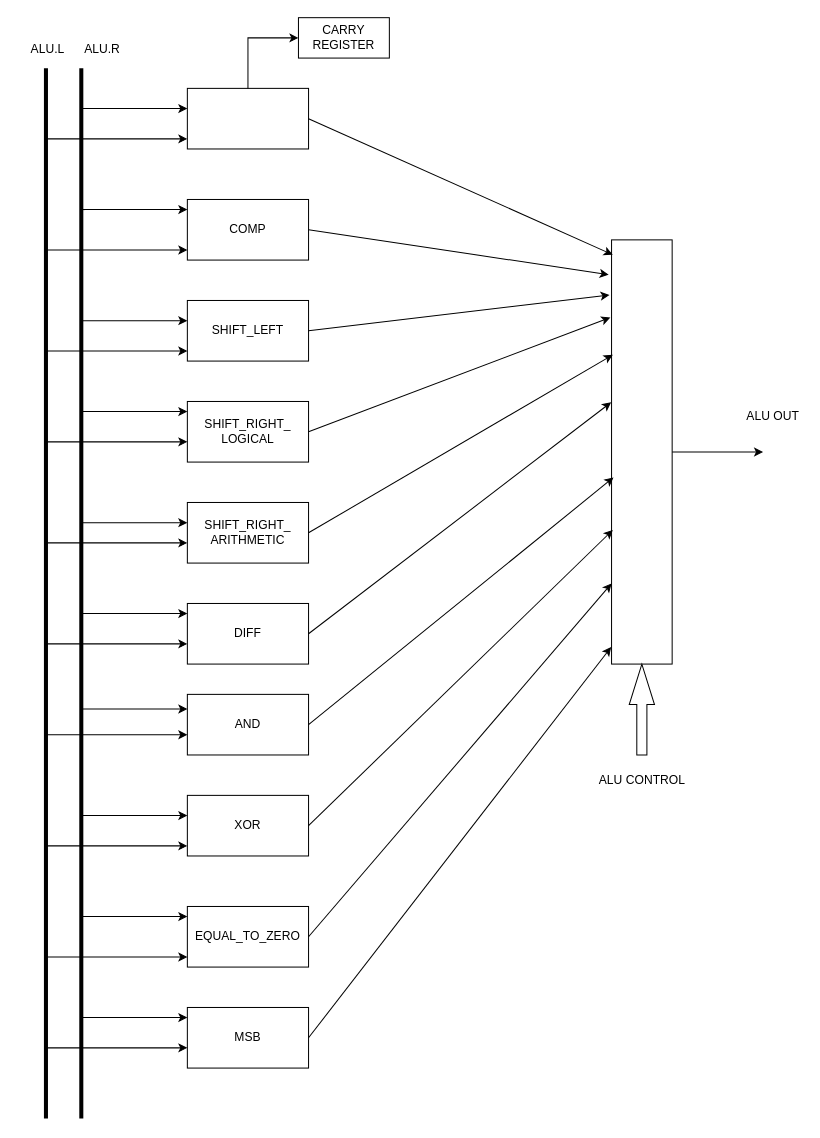
Some shapes in this 820 by 1138 pixel diagram are drawn without their labels. Each missing label, with the box of its shape:
ADD: (186, 87, 309, 149)
MUX: (611, 239, 672, 664)
